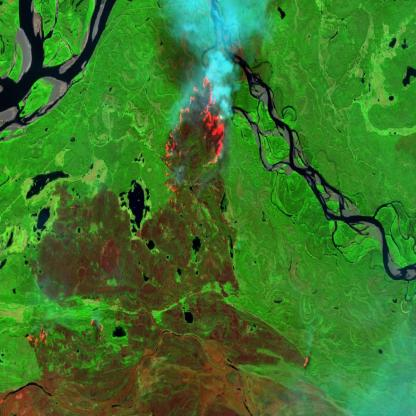fire: (160, 63, 228, 201), (22, 318, 104, 356), (297, 346, 316, 376)
